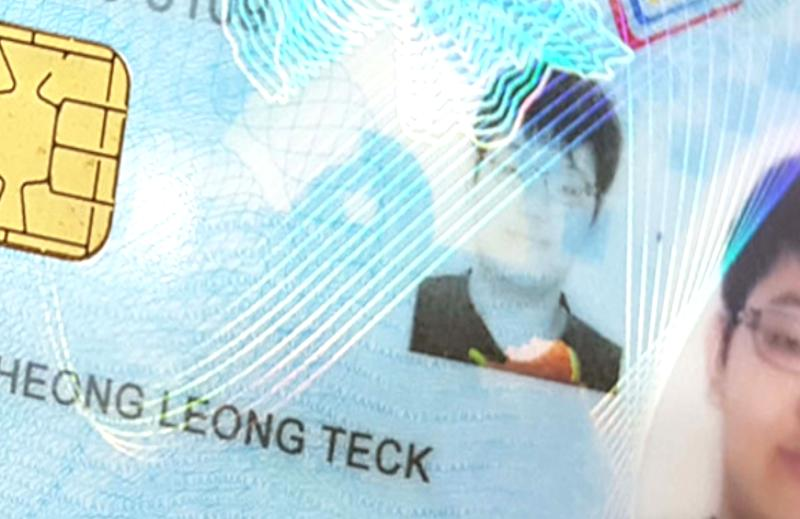hologram: (230, 136, 412, 386)
